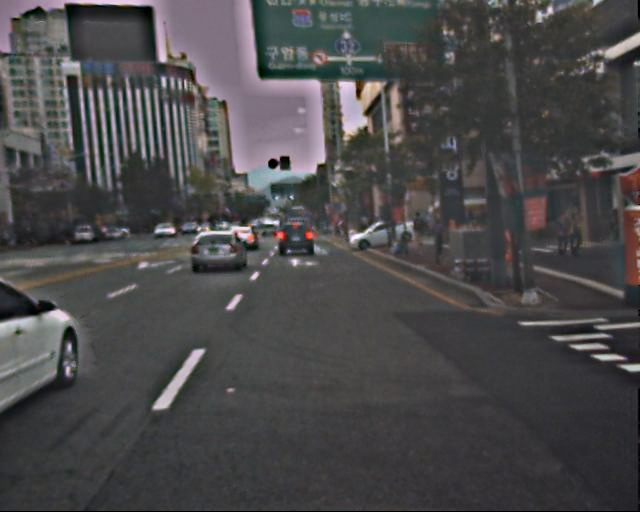person: (551, 212, 571, 260), (563, 209, 583, 257), (430, 216, 447, 257), (411, 211, 427, 250)
